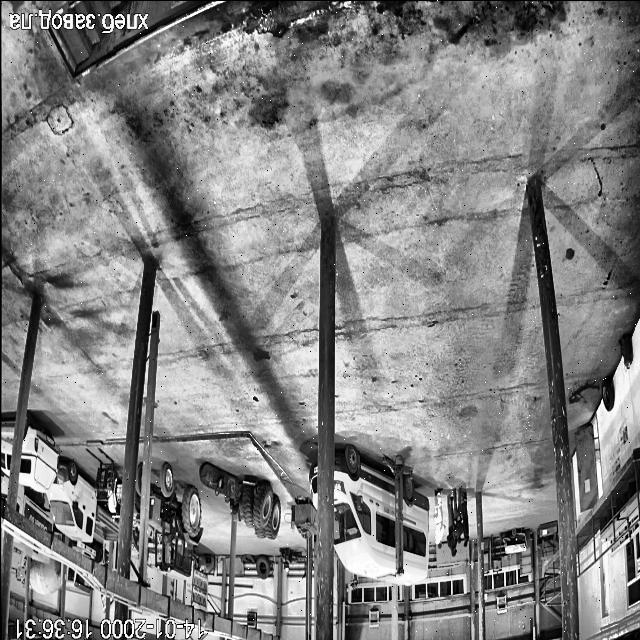car lift: (384, 455, 412, 576)
fire extinguisher: (619, 334, 632, 368)
mechanic: (434, 489, 444, 548), (446, 497, 456, 556), (452, 489, 463, 540), (461, 492, 468, 546)
tractor: (148, 462, 202, 579), (136, 463, 142, 512), (140, 524, 141, 526)
truck: (47, 462, 118, 541), (20, 412, 59, 492), (16, 484, 52, 532), (14, 535, 48, 562), (0, 422, 14, 475), (66, 567, 92, 595), (76, 540, 104, 563), (0, 476, 8, 500)
